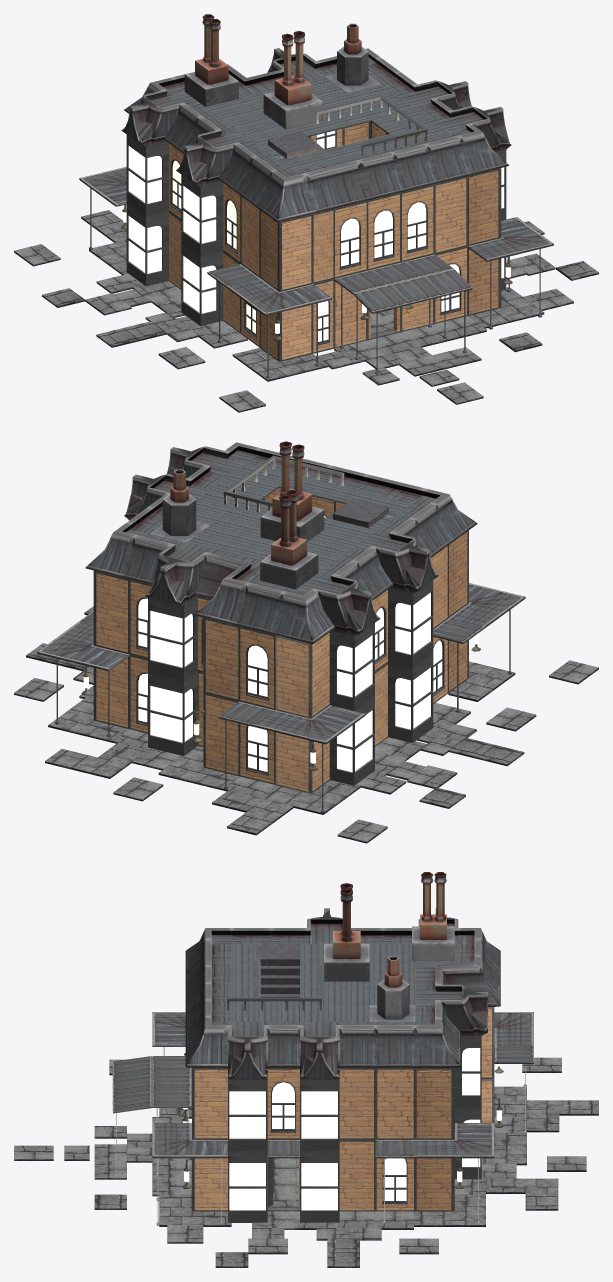
The model's file is BuildingModularSteampunk.glb.
The picture shows the model from 3 angles, top to bottom: view 1: azimuth 30°, elevation 25°; view 2: azimuth 150°, elevation 25°; view 3: azimuth 270°, elevation 25°; orthographic projection. The views are drawn at different scales.
Visible parts, largest first — view 1: Rooftop Module Square, Wall corner Module.004, Chimneys Rectangular .002, Bay Window Module.004, Bay Window Module.008, Bay Window Module.007, Bay Window Module.006, Chimneys Rectangular, Roof base Module, Wall corner Module.005, Roof Bay Window Module.001, Roof Bay Window Module (+67 smaller); view 2: Rooftop Module Square, Wall inner Corner Module.003, Bay Window Module.009, Bay Window Module.002, Bay Window Module.006, Bay Window Module.007, Bay Window Module.008, Chimneys Rectangular, Roof Bay Window Module.001, Roof Bay Window Module, Wall corner Module.006, Wall inner Corner Module.004 (+59 smaller); view 3: Rooftop Module Square, Wall base Module.011, Bay Window Module.001, Bay Window Module.003, Bay Window Module.010, Bay Window Module.011, Wall corner Module.006, Wall base Module.003, Wall base Module.010, Chimneys Rectangular .002, Chimneys Rectangular, Wall corner Module.005 (+66 smaller).
Part boxes in pixels (x1,y1,x2,y2): Rooftop Module Square: (224, 76, 447, 166); Wall corner Module.004: (260, 210, 312, 291); Chimneys Rectangular .002: (263, 31, 322, 129); Bay Window Module.004: (126, 203, 168, 286); Bay Window Module.008: (126, 135, 168, 216); Bay Window Module.007: (181, 174, 223, 256); Bay Window Module.006: (181, 243, 223, 326); Chimneys Rectangular: (184, 14, 238, 106); Roof base Module: (294, 158, 370, 213); Wall corner Module.005: (467, 168, 501, 245); Roof Bay Window Module.001: (121, 89, 201, 146); Roof Bay Window Module: (176, 129, 256, 186); Rooftop Module Square: (186, 463, 391, 560); Wall inner Corner Module.003: (275, 632, 329, 718); Bay Window Module.009: (148, 596, 197, 681); Bay Window Module.002: (148, 671, 197, 755); Bay Window Module.006: (388, 653, 433, 742); Bay Window Module.007: (388, 580, 433, 668); Bay Window Module.008: (329, 623, 374, 710); Chimneys Rectangular: (260, 490, 318, 589); Roof Bay Window Module.001: (294, 574, 380, 635); Roof Bay Window Module: (352, 532, 438, 593); Wall corner Module.006: (93, 570, 129, 654); Wall inner Corner Module.004: (203, 617, 239, 700); Rooftop Module Square: (231, 953, 414, 1021); Wall base Module.011: (375, 1068, 415, 1139); Bay Window Module.001: (300, 1151, 339, 1222); Bay Window Module.003: (228, 1151, 267, 1222); Bay Window Module.010: (300, 1079, 339, 1150); Bay Window Module.011: (228, 1079, 267, 1150); Wall corner Module.006: (415, 1068, 454, 1139); Wall base Module.003: (339, 1139, 375, 1211); Wall base Module.010: (339, 1068, 375, 1139); Chimneys Rectangular .002: (324, 883, 369, 981); Chimneys Rectangular: (412, 872, 454, 962); Wall corner Module.005: (192, 1068, 227, 1139).
Size of what is drawn, in the model's own units: 29.65 by 16.24 by 33.2.
3 materials, 3 textured.
